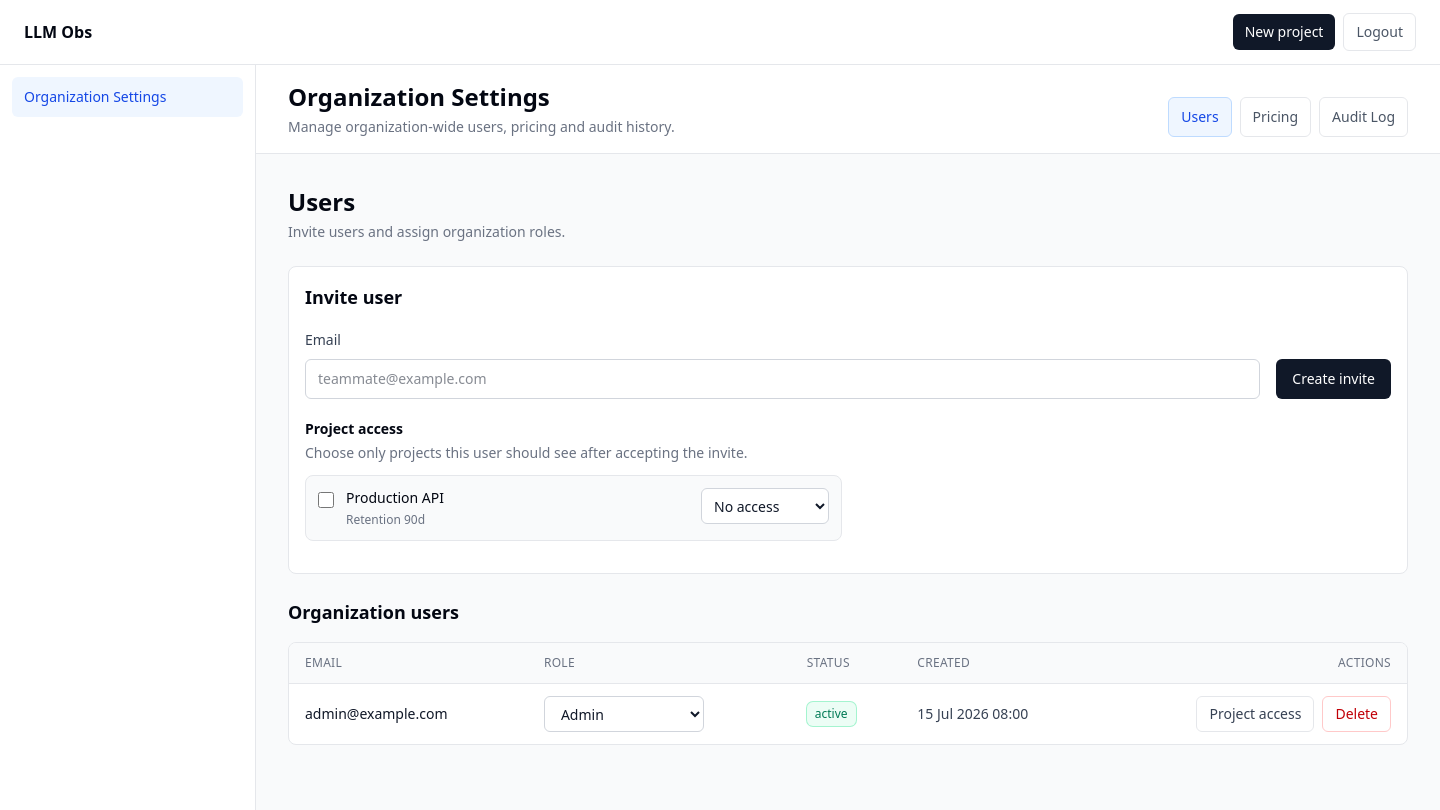
Test: App › shows implicit project access for organization admins
The width and height of the screenshot is (1440, 810).
Expected: the text "admin@example.com" is shown, [289,684,528,744]
Click the button "Project access".
click(1256, 714)  # box [1196,696,1314,732]
(page scrolled)
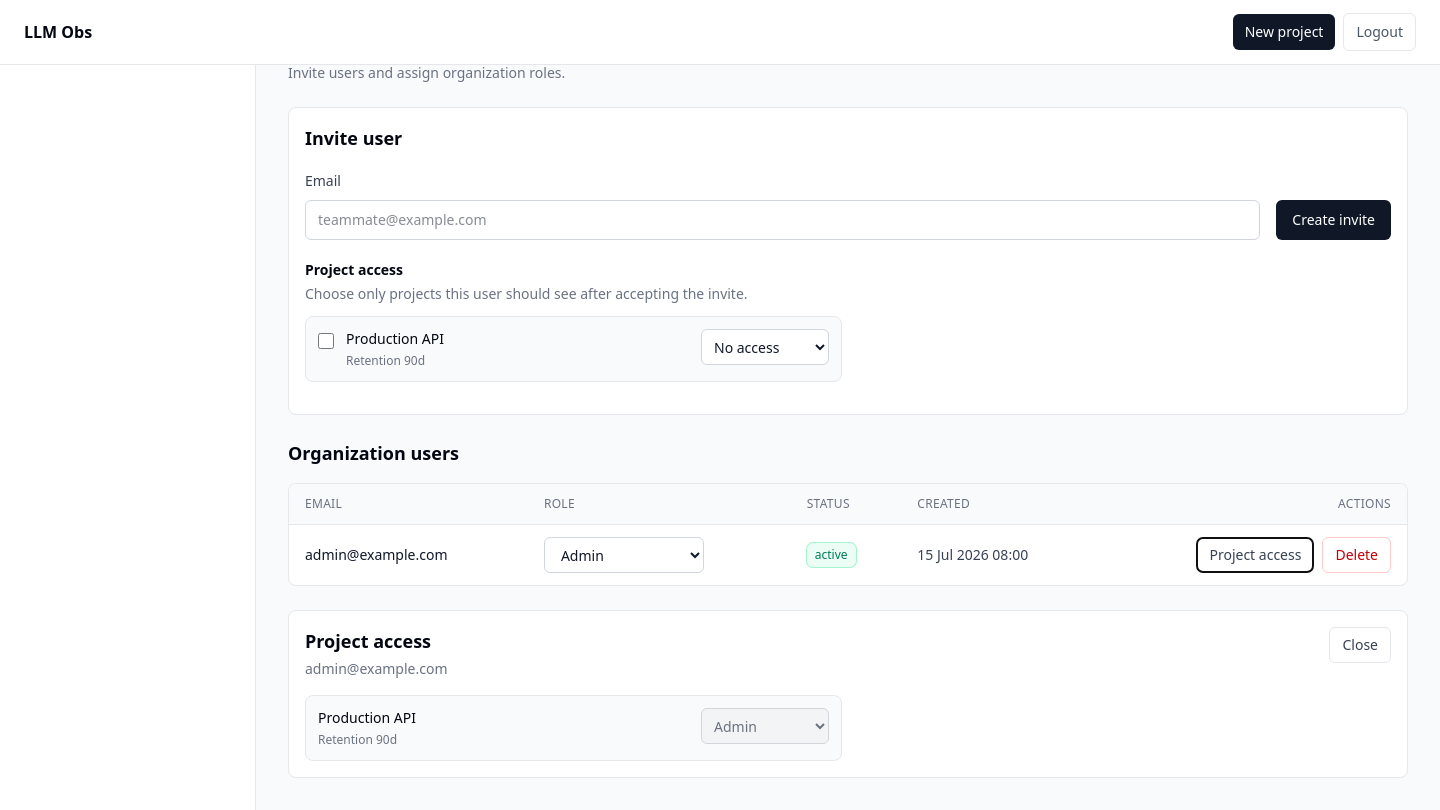
Result: the dropdown named "Production API existing user project role" shows "Admin" at [701,708,829,744]
Result: the dropdown named "Production API existing user project role" is disabled at [701,708,829,744]
